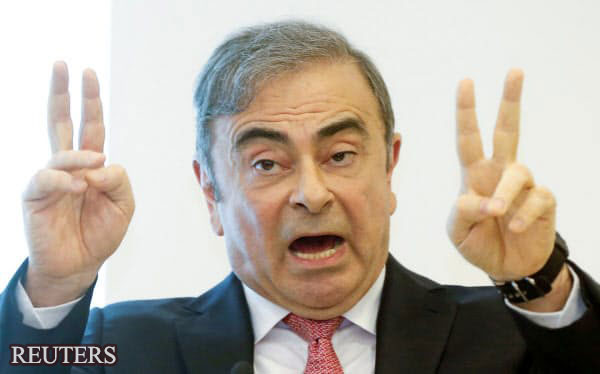v_s: (15, 57, 137, 290), (437, 62, 564, 280)
